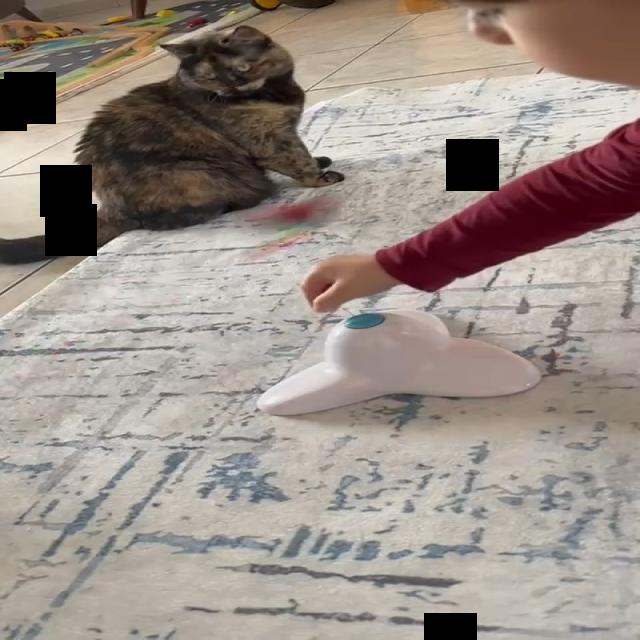authorized: (0, 24, 344, 265)
